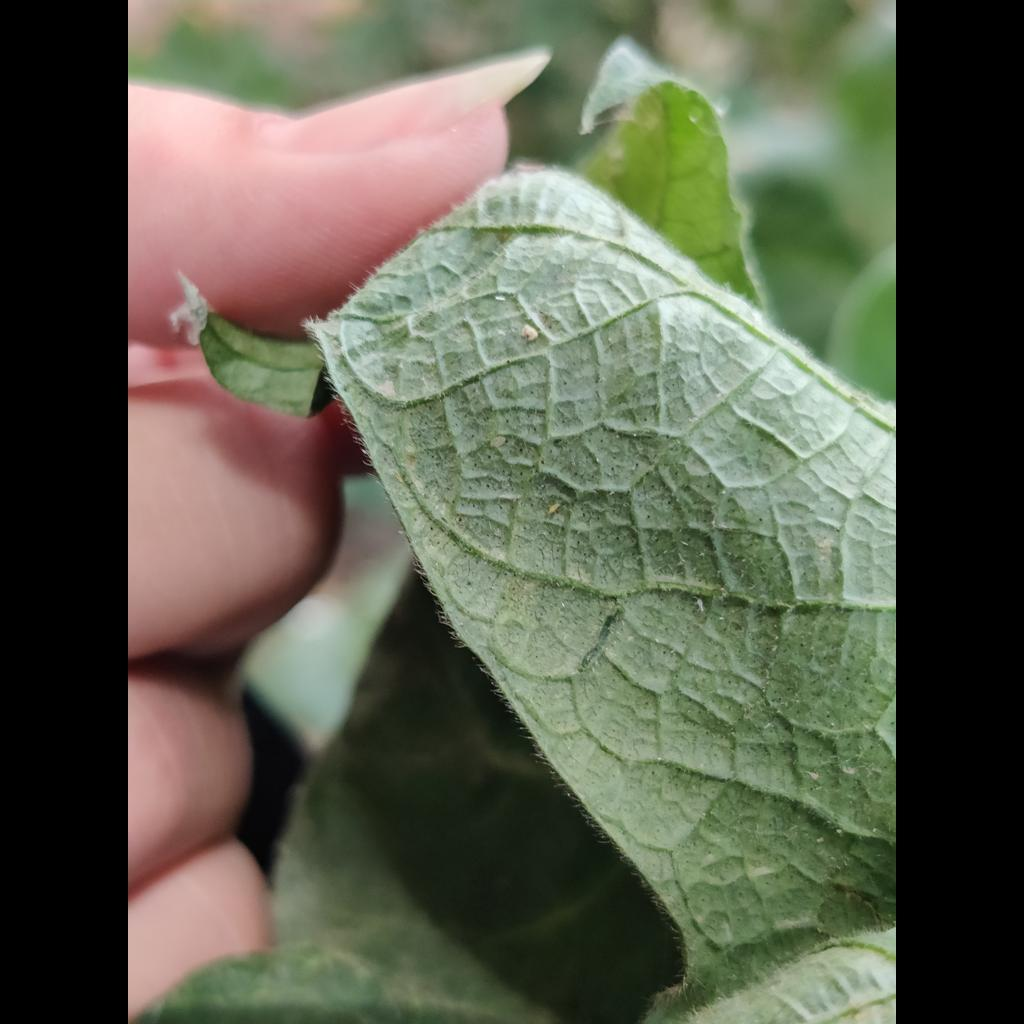nymph: (696, 598, 704, 611), (807, 772, 820, 780), (495, 295, 506, 302), (817, 836, 824, 843)
